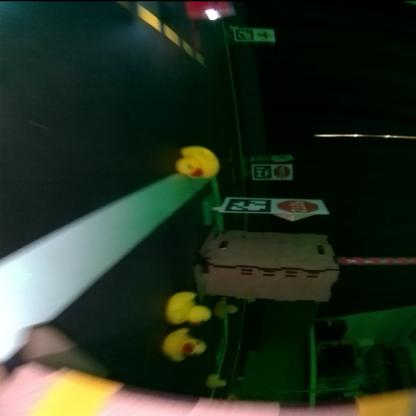Duckie: (166, 292, 212, 325), (162, 328, 206, 360), (178, 149, 222, 179), (214, 300, 238, 318), (207, 373, 228, 387)
Duckiebot: (186, 1, 236, 20)
Intersection sign: (258, 30, 274, 39)
QR code: (226, 199, 272, 211), (255, 165, 273, 179), (236, 30, 254, 40)
Stop sign: (276, 200, 320, 212), (274, 166, 292, 178)
